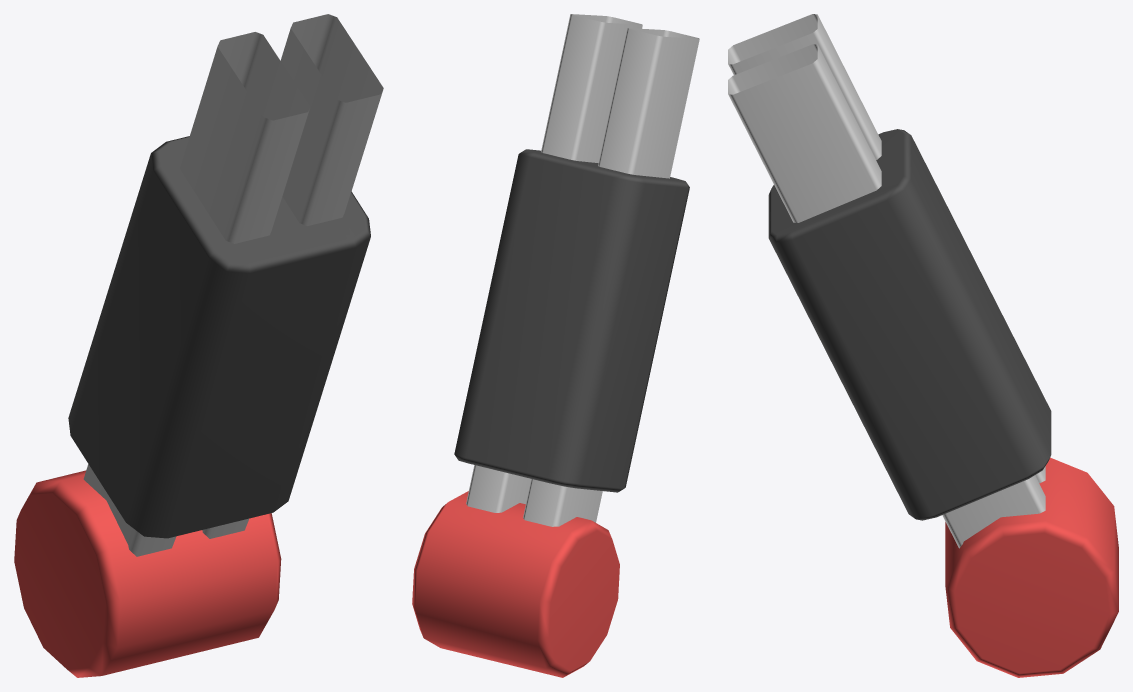
File: obstacle_8_004.fbx
3 renders of one model, left to right at view 1: azimuth 30°, elevation 25°; view 2: azimuth 150°, elevation 25°; view 3: azimuth 270°, elevation 25°, orthographic. The views are drawn at different scales.
Parts seen in each view (by area): view 1: obstacle_8_004; view 2: obstacle_8_004; view 3: obstacle_8_004.
Part boxes in pixels (x1=…): obstacle_8_004: x1=14, y1=14, x2=383, y2=677; obstacle_8_004: x1=412, y1=14, x2=699, y2=677; obstacle_8_004: x1=728, y1=14, x2=1118, y2=677.
Bounding box in the file's own units: 192 × 436 × 749.
